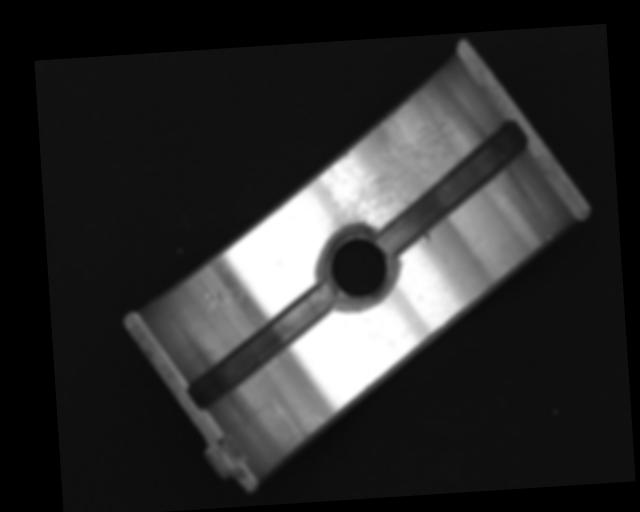bruise: (203, 288, 226, 312), (421, 230, 432, 245)
gap: (369, 121, 534, 255), (183, 283, 338, 409)
hole: (313, 225, 401, 314)
scratch: (314, 90, 469, 244)
